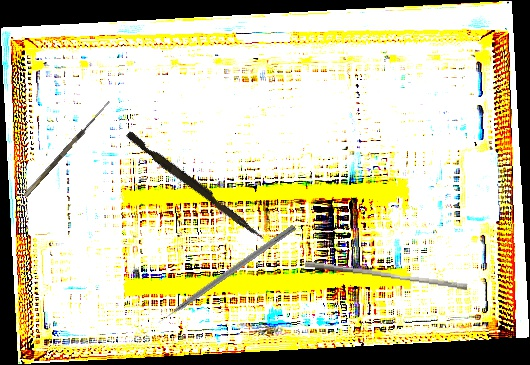Hook Surgical: (154, 222, 297, 326), (18, 95, 113, 198)
Pusher: (122, 130, 270, 242), (303, 260, 469, 291)
